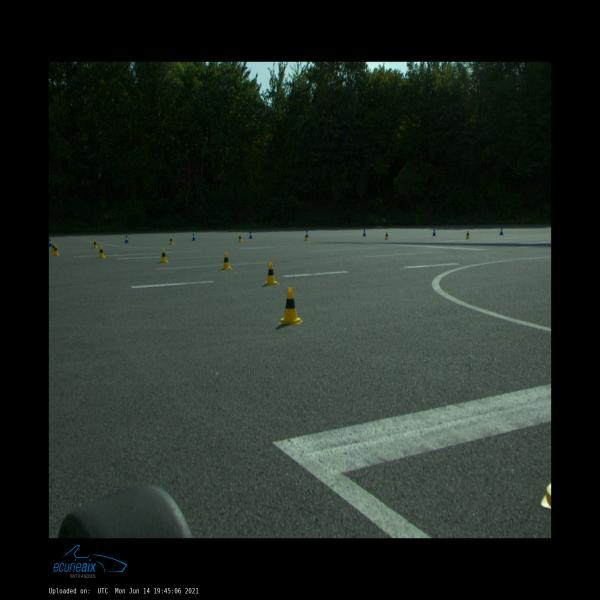blue_cone: (248, 231, 253, 239), (499, 228, 504, 235), (305, 229, 309, 237), (191, 234, 196, 240), (432, 229, 436, 236), (125, 236, 129, 243), (49, 239, 52, 247), (363, 229, 366, 236)
yellow_cone: (279, 287, 303, 324), (264, 262, 280, 285), (221, 252, 232, 270), (160, 249, 169, 262), (98, 246, 106, 258), (52, 245, 60, 256), (93, 239, 98, 249), (304, 232, 309, 241), (169, 236, 174, 245), (466, 230, 470, 239), (384, 232, 388, 240), (238, 234, 242, 242), (51, 242, 54, 252)
